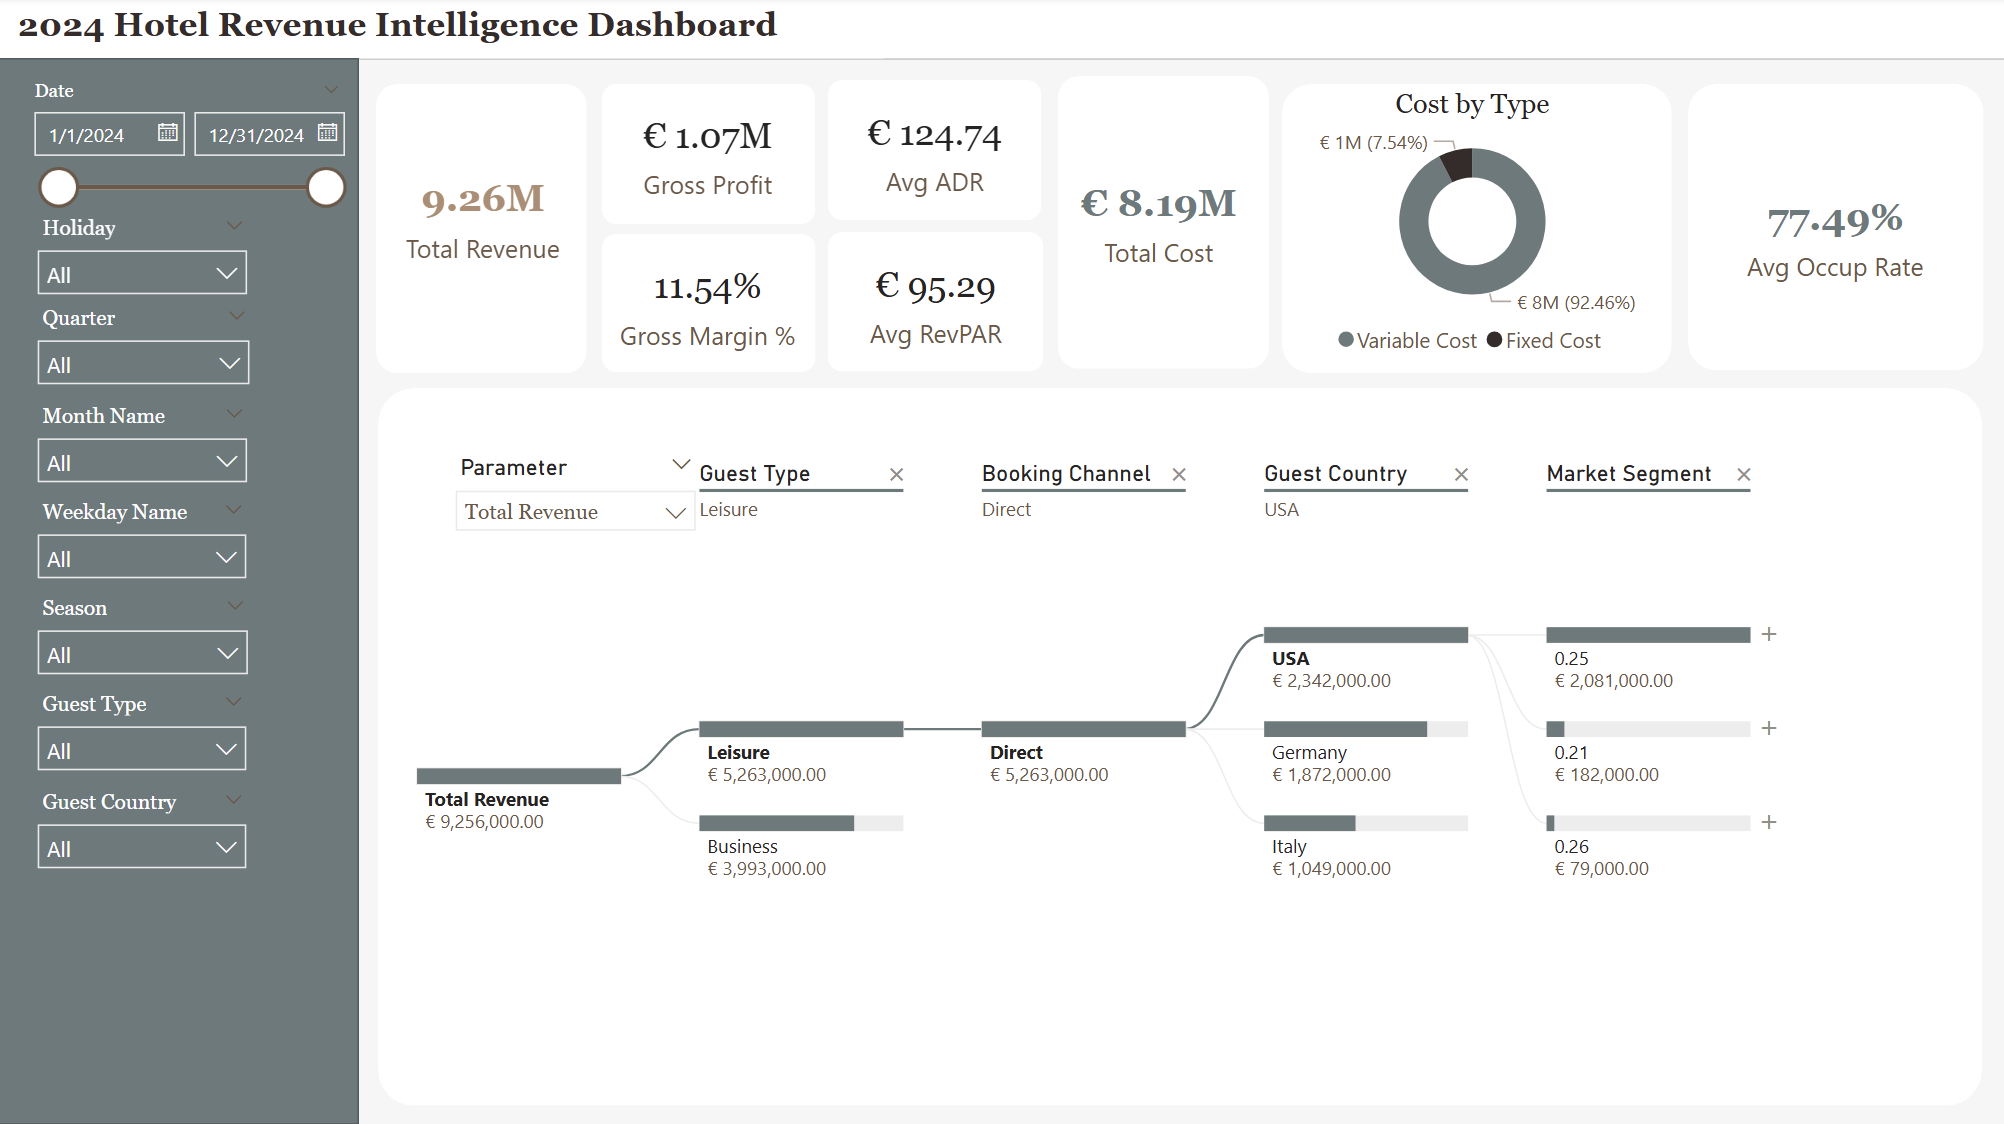

The page's visual inventory and layout, read from the dashboard file:
{"tool":"powerbi","page":{"name":"Deep Dive Analysis - update","canvas":[1280,720],"ordinal":1},"visuals":[{"type":"shape","box":[243.8,250,1022.5,457.5],"z":0},{"type":"shape","box":[0,0,1284.1,40.5],"z":1000},{"type":"textbox","box":[8.6,1.4,557.1,38.6],"z":3000},{"type":"shape","box":[0,40,231.4,680],"z":4000},{"type":"slicer","fields":{"Values":["Date Table.Date"]},"box":[11,48.3,220,121.7],"z":5000},{"type":"slicer","fields":{"Values":["Date Table.Quarter"]},"box":[16.7,193.1,155,68.3],"z":6000},{"type":"slicer","fields":{"Values":["Date Table.MonthName"]},"box":[16.7,254.4,153.3,68.3],"z":7000},{"type":"slicer","fields":{"Values":["Date Table.WeekdayName"]},"box":[16.7,315.8,152.9,68.6],"z":8000},{"type":"slicer","fields":{"Values":["Hotel book.Season"]},"box":[16.7,377.3,153.8,68.7],"z":9000},{"type":"slicer","fields":{"Values":["Hotel book.Guest_Type"]},"box":[16.7,439,152.9,68.6],"z":10000},{"type":"slicer","fields":{"Values":["Hotel book.Guest_Country"]},"box":[16.7,500.6,152.9,68.6],"z":11000},{"type":"slicer","fields":{"Values":["Hotel book.Holiday"]},"box":[16.7,135,153.3,61.7],"z":12000},{"type":"shape","box":[1078.1,56.4,188.6,182.6],"z":13000},{"type":"shape","box":[529.9,150.7,137.3,89.1],"z":14000},{"type":"shape","box":[820.4,55.6,248.6,184.3],"z":15000},{"type":"shape","box":[386.1,55.6,136,89.3],"z":16000},{"type":"shape","box":[386.1,152.1,136.4,88.2],"z":17000},{"type":"shape","box":[529.9,54.2,136,89.3],"z":18000},{"type":"card","fields":{"Values":["Hotel book.Gross Margin %"]},"box":[379.1,139.4,150,114.5],"z":19000},{"type":"card","fields":{"Values":["Hotel book.Avg RevPAR"]},"box":[507.1,123.4,183.6,143.6],"z":20000},{"type":"donutChart","title":"Cost by Type","fields":{"Y":["Hotel book.Variable Cost","Hotel book.Fixed Cost"]},"box":[800.9,59.2,281.2,179.4],"z":21000},{"type":"card","fields":{"Values":["Hotel book.Avg Occup Rate"]},"box":[1081.5,64.4,182.9,174.1],"z":22000},{"type":"shape","box":[242.6,55.6,134.3,184.3],"z":23000},{"type":"card","fields":{"Values":["Hotel book.Total Revenue"]},"box":[216.4,71.2,187.3,137.3],"z":24000},{"type":"shape","box":[676.5,51.2,134.6,186.8],"z":25000},{"type":"card","fields":{"Values":["Hotel book.Total Cost"]},"box":[661.2,87.7,159.1,110],"z":26000},{"type":"card","fields":{"Values":["Hotel book.Total Profit"]},"box":[363.7,30.3,180.9,139.1],"z":27000},{"type":"card","fields":{"Values":["Hotel book.Avg ADR"]},"box":[504.4,26.1,187.3,145.5],"z":28000},{"type":"decompositionTreeVisual","title":"Occupancy Rate & RevPAR Trend","fields":{"Analyze":["DAX.Total Revenue"],"ExplainBy":["Hotel book.Guest_Type","Hotel book.Booking_Channel","Hotel book.Guest_Country","Hotel book.Market_Segment","Date Table.Season","Hotel book.Holiday","Hotel book.Marketing_Spend","Hotel book.Compliment","Hotel book.Complaints"]},"box":[238.6,278.6,1020,414.3],"z":29000},{"type":"slicer","fields":{"Values":["Parameter.Parameter"]},"box":[282.9,287.1,172.9,62.9],"z":30000},{"type":"textbox","box":[17,574.4,199.2,135.9],"z":30001}]}

Visuals, with their boxes in screenshot pixels (x1, y1, x2, y2), scaled from the page's 1280x720 canvas onto the 2004x1124 screenshot:
shape: bbox=[382, 390, 1983, 1104]
shape: bbox=[0, 0, 2003, 63]
textbox: bbox=[13, 2, 886, 62]
shape: bbox=[0, 62, 362, 1123]
slicer - Date Table.Date: bbox=[17, 75, 362, 265]
slicer - Date Table.Quarter: bbox=[26, 301, 269, 408]
slicer - Date Table.MonthName: bbox=[26, 397, 266, 504]
slicer - Date Table.WeekdayName: bbox=[26, 493, 266, 600]
slicer - Hotel book.Season: bbox=[26, 589, 267, 696]
slicer - Hotel book.Guest_Type: bbox=[26, 685, 266, 792]
slicer - Hotel book.Guest_Country: bbox=[26, 781, 266, 889]
slicer - Hotel book.Holiday: bbox=[26, 211, 266, 307]
shape: bbox=[1688, 88, 1983, 373]
shape: bbox=[830, 235, 1045, 374]
shape: bbox=[1284, 87, 1674, 375]
shape: bbox=[604, 87, 817, 226]
shape: bbox=[604, 237, 818, 375]
shape: bbox=[830, 85, 1043, 224]
card - Hotel book.Gross Margin %: bbox=[594, 218, 828, 396]
card - Hotel book.Avg RevPAR: bbox=[794, 193, 1081, 417]
"Cost by Type" donutChart: bbox=[1254, 92, 1694, 372]
card - Hotel book.Avg Occup Rate: bbox=[1693, 101, 1980, 372]
shape: bbox=[380, 87, 590, 375]
card - Hotel book.Total Revenue: bbox=[339, 111, 632, 325]
shape: bbox=[1059, 80, 1270, 372]
card - Hotel book.Total Cost: bbox=[1035, 137, 1284, 309]
card - Hotel book.Total Profit: bbox=[569, 47, 853, 264]
card - Hotel book.Avg ADR: bbox=[790, 41, 1083, 268]
"Occupancy Rate & RevPAR Trend" decompositionTreeVisual: bbox=[374, 435, 1970, 1082]
slicer - Parameter.Parameter: bbox=[443, 448, 714, 546]
textbox: bbox=[27, 897, 338, 1109]
